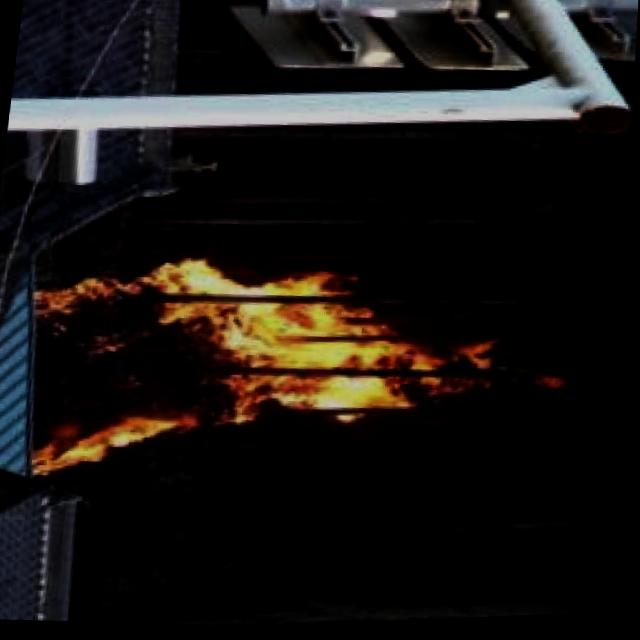helmet: (22, 239, 496, 495)
